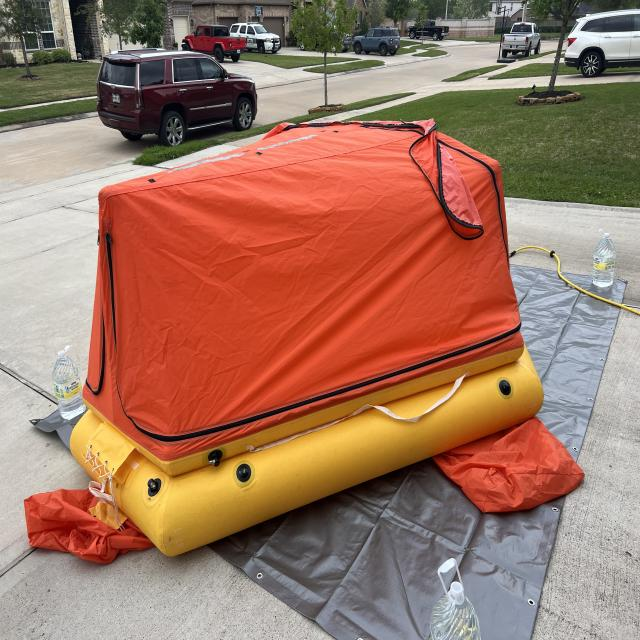Multi-person_life_raft: (24, 120, 585, 566)
